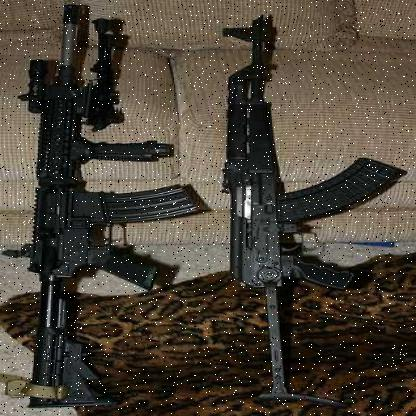rifle: (196, 5, 415, 415), (13, 3, 211, 415)
